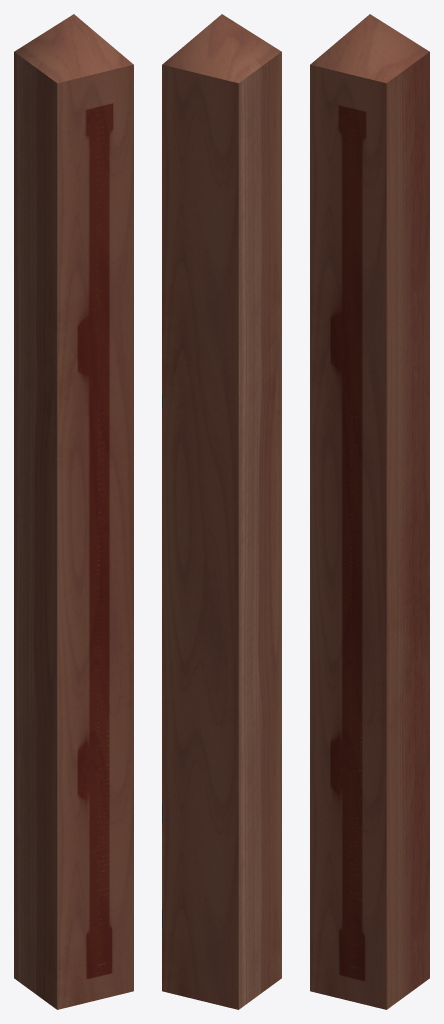
The model's file is PalingsPost.fbx.
3 renders of one model, left to right at view 1: azimuth 30°, elevation 25°; view 2: azimuth 150°, elevation 25°; view 3: azimuth 330°, elevation 25°, orthographic.
Parts seen in each view (by area): view 1: polySurface1; view 2: polySurface1; view 3: polySurface1.
Boxes of the visible parts, x1,y1,x2,y2 form: polySurface1: (14,14,133,1009); polySurface1: (162,14,281,1009); polySurface1: (310,14,429,1009).
Bounding box in the file's own units: 0.0904 × 1.1 × 0.0884.
